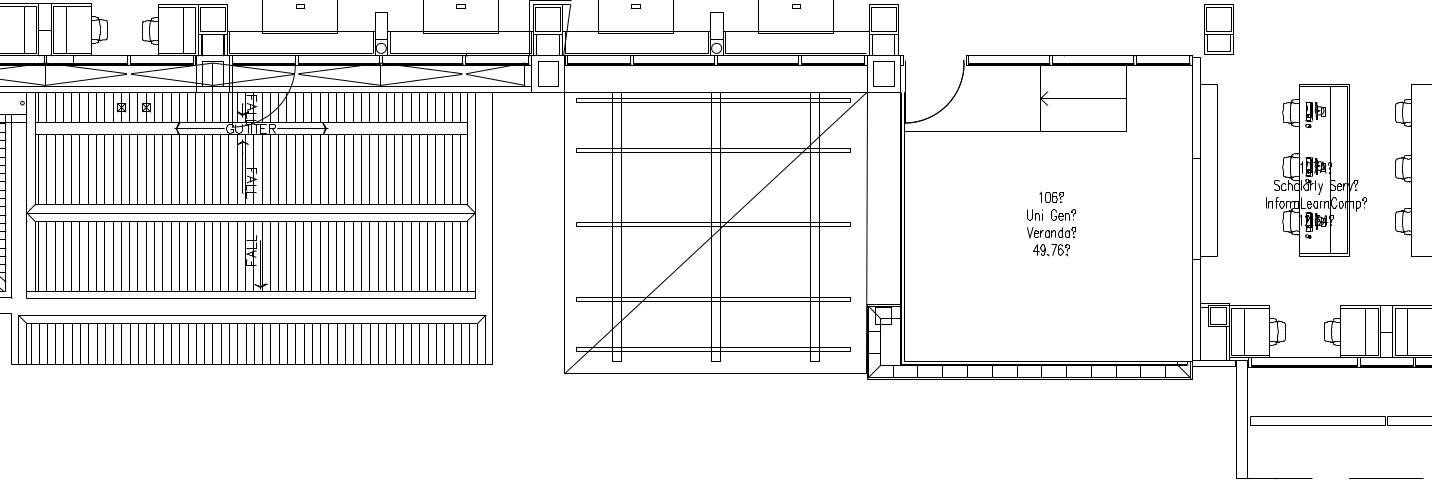door: (901, 56, 966, 126)
